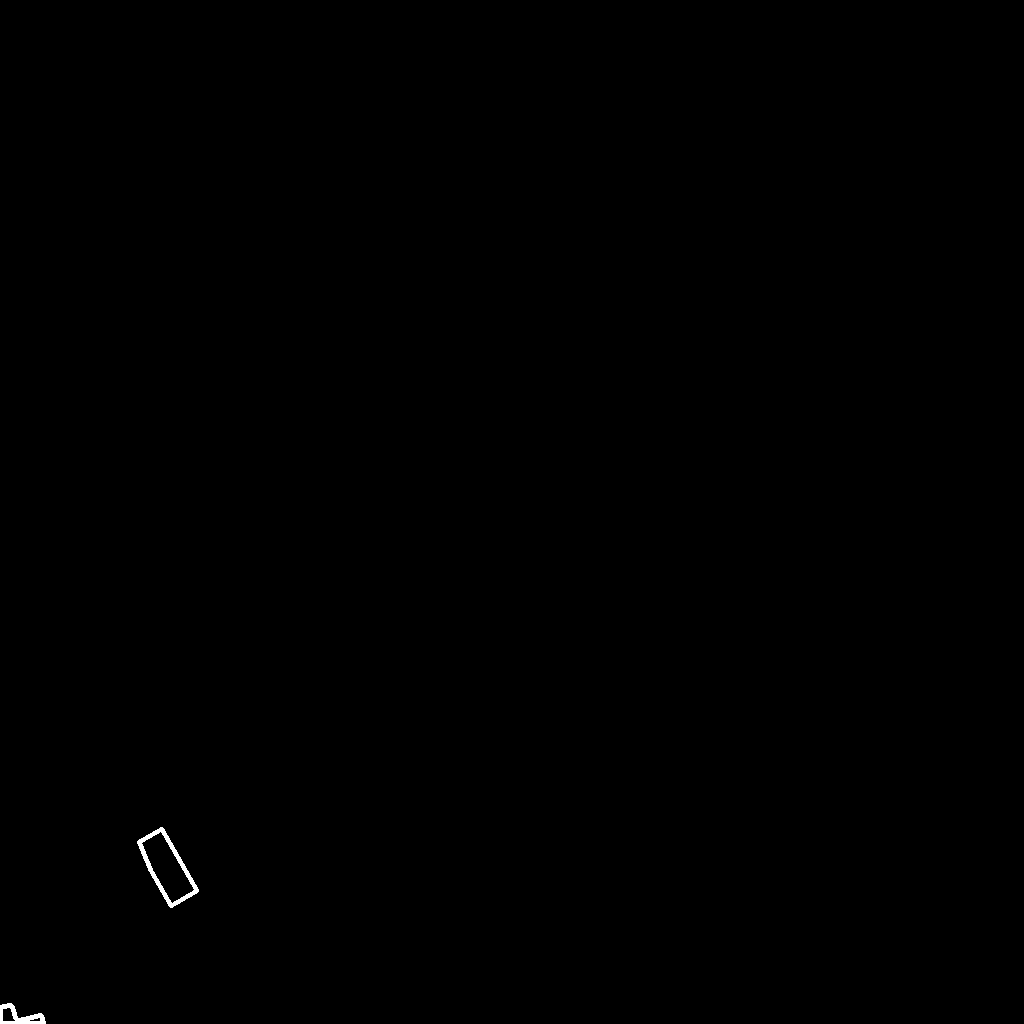building: (139, 829, 198, 907), (0, 1005, 45, 1024)
